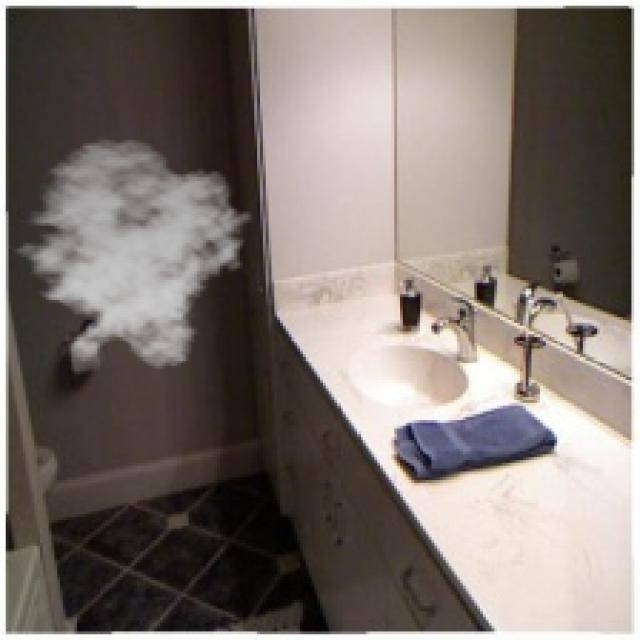Smoke: (0, 137, 255, 372)
